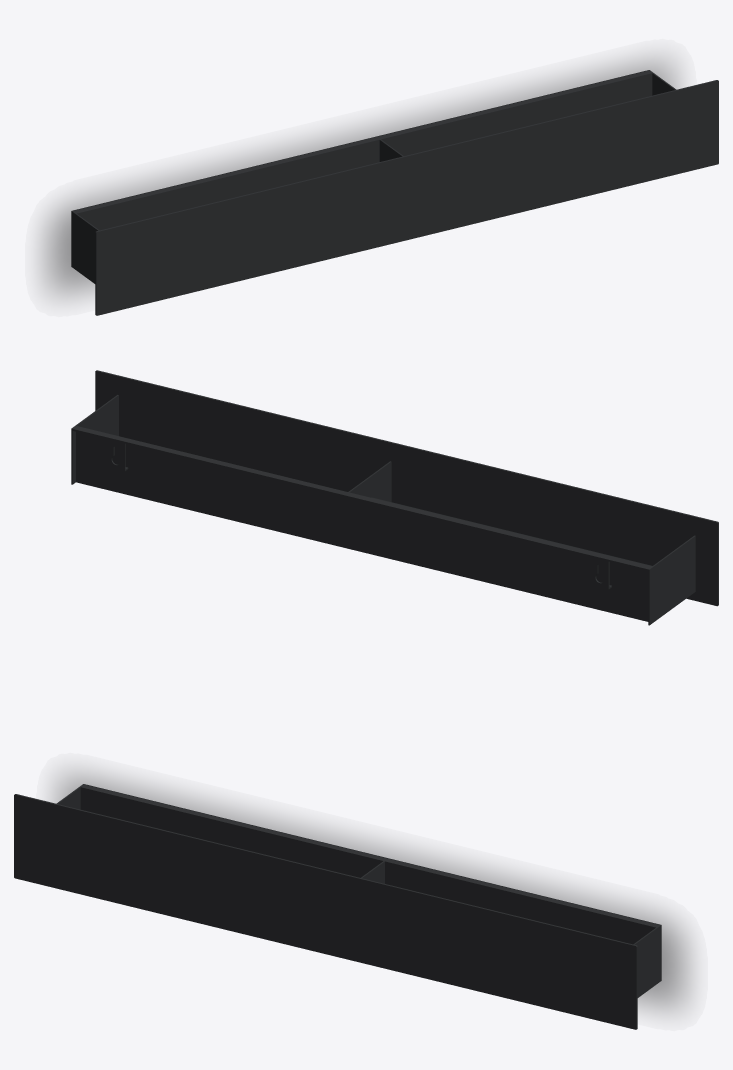
File: skyline-double.67683cf9cf.ar.glb
3 views of the same model, one above another, from view 1: azimuth 30°, elevation 25°; view 2: azimuth 150°, elevation 25°; view 3: azimuth 330°, elevation 25° (orthographic).
Parts seen in each view (by area): view 1: NAUO1, object 3; view 2: NAUO1, NAUO2; view 3: NAUO1, object 3.
Boxes of the visible parts, <box> form: NAUO1: <box>71,70,718,315</box>; object 3: <box>42,59,678,296</box>; NAUO1: <box>71,370,718,625</box>; NAUO2: <box>107,439,611,589</box>; NAUO1: <box>14,784,661,1029</box>; object 3: <box>54,773,690,1010</box>.
Size of the model in its own units: 0.78 by 0.17 by 0.092.
2 materials, 1 textured.
